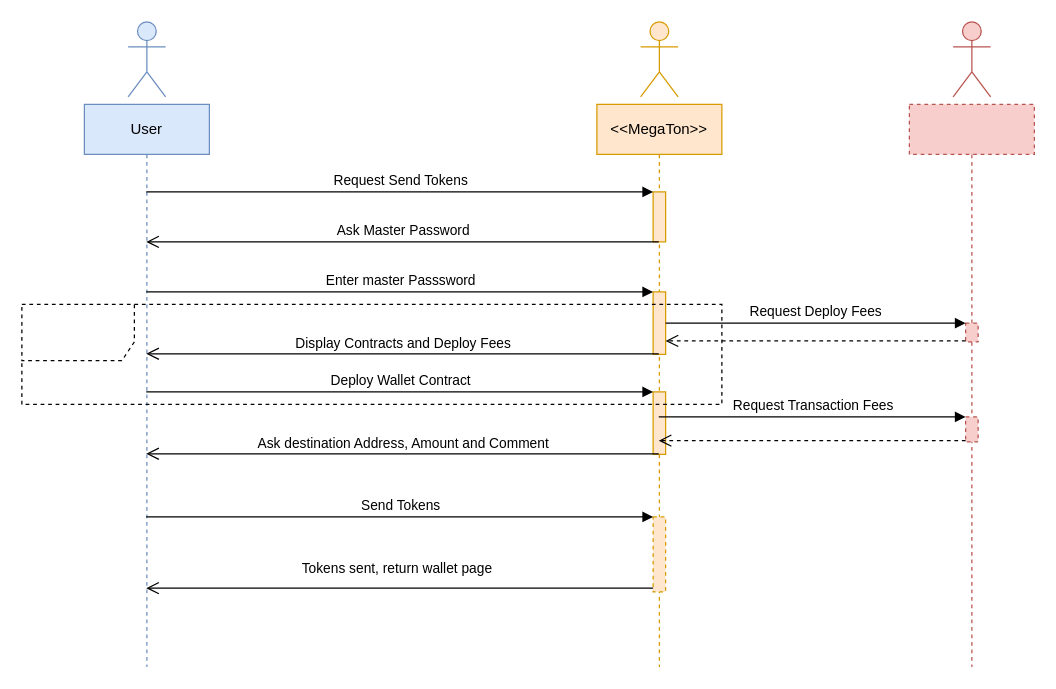
Image size: 1056x689. Some labels were removed from this diagram. Here are the shapes that lost their labels. From the top down, the centre of each, then its label:
At (x=371, y=353): "If No Wallet Contract On Address".
At (x=971, y=385): "Ton Node".
